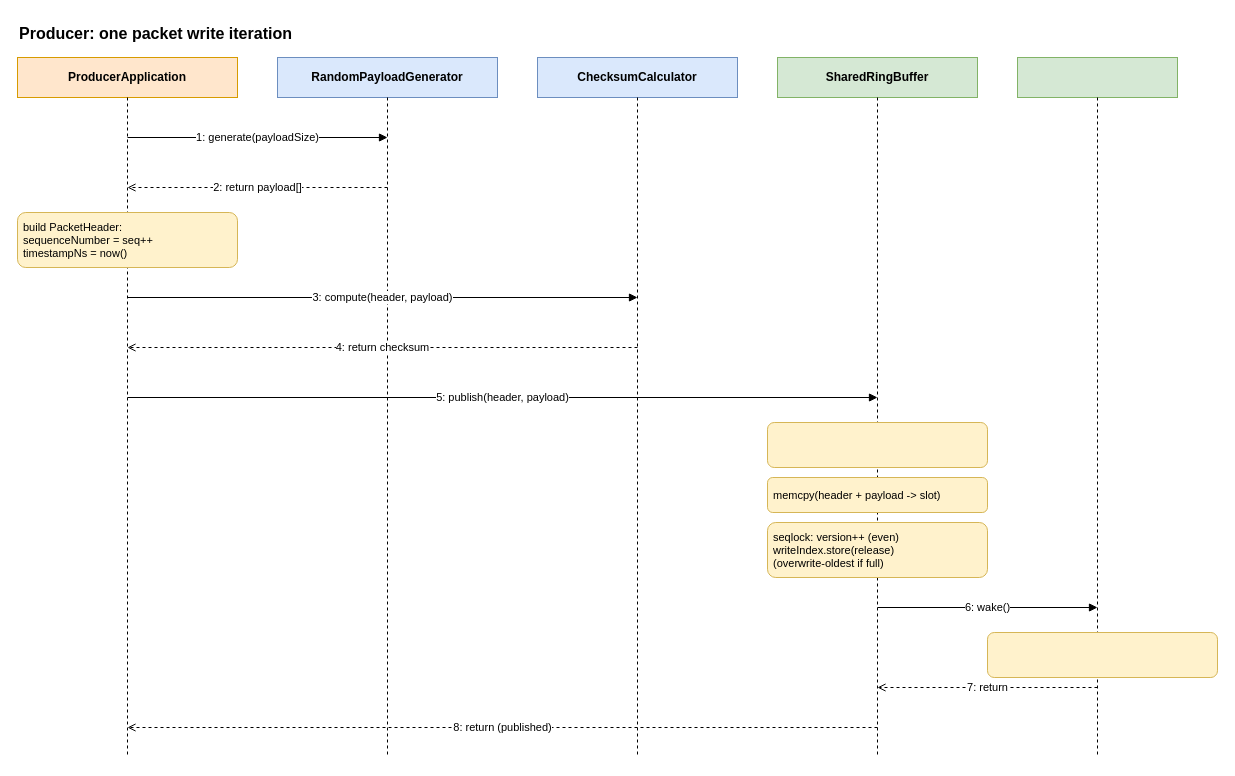
Some shapes in this 1235 by 776 pixel diagram are drawn without their labels. Each missing label, with the centre of its shape:
"futex(FUTEX_WAKE, &writeIndex) (only if consumer may be sleeping)" goes at (x=1102, y=655).
"FutexGate" goes at (x=1097, y=77).
"slot = writeIndex % capacity seqlock: version++ (odd)" goes at (x=877, y=445).
